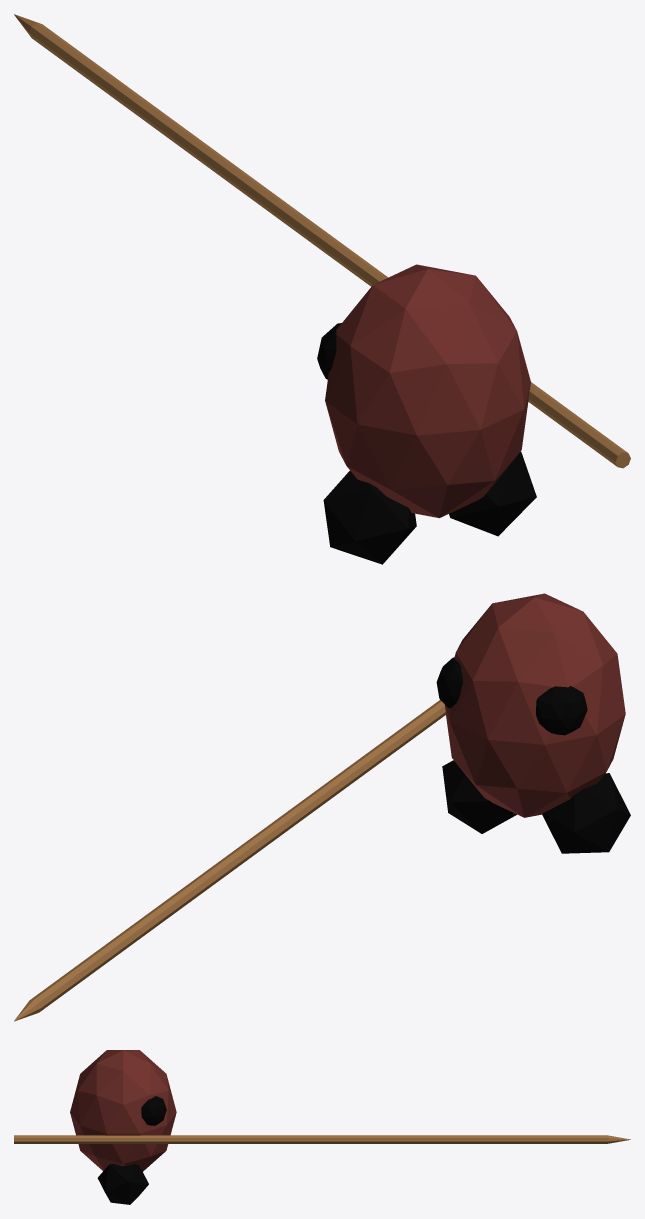
File: stab.f0003.glb
3 renders of one model, top to bottom at view 1: azimuth 30°, elevation 25°; view 2: azimuth 150°, elevation 25°; view 3: azimuth 270°, elevation 25°, orthographic. The views are drawn at different scales.
Parts seen in each view (by area): view 1: Body.001; view 2: Body.001; view 3: Body.001.
Boxes of the visible parts, x1,y1,x2,y2 form: Body.001: [14, 14, 630, 564]; Body.001: [14, 593, 630, 1021]; Body.001: [14, 1050, 630, 1204].
Size of the model in its own units: 2.17 by 2.85 by 11.56.
1 material, 1 textured.
